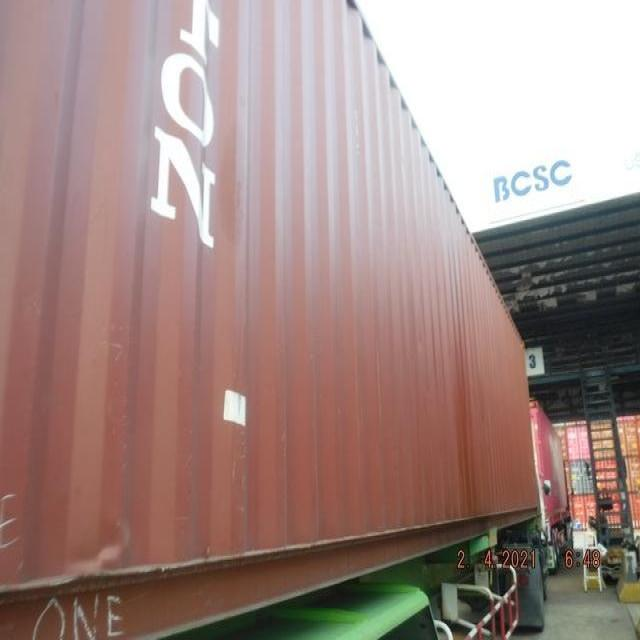dent: (60, 496, 157, 573)
